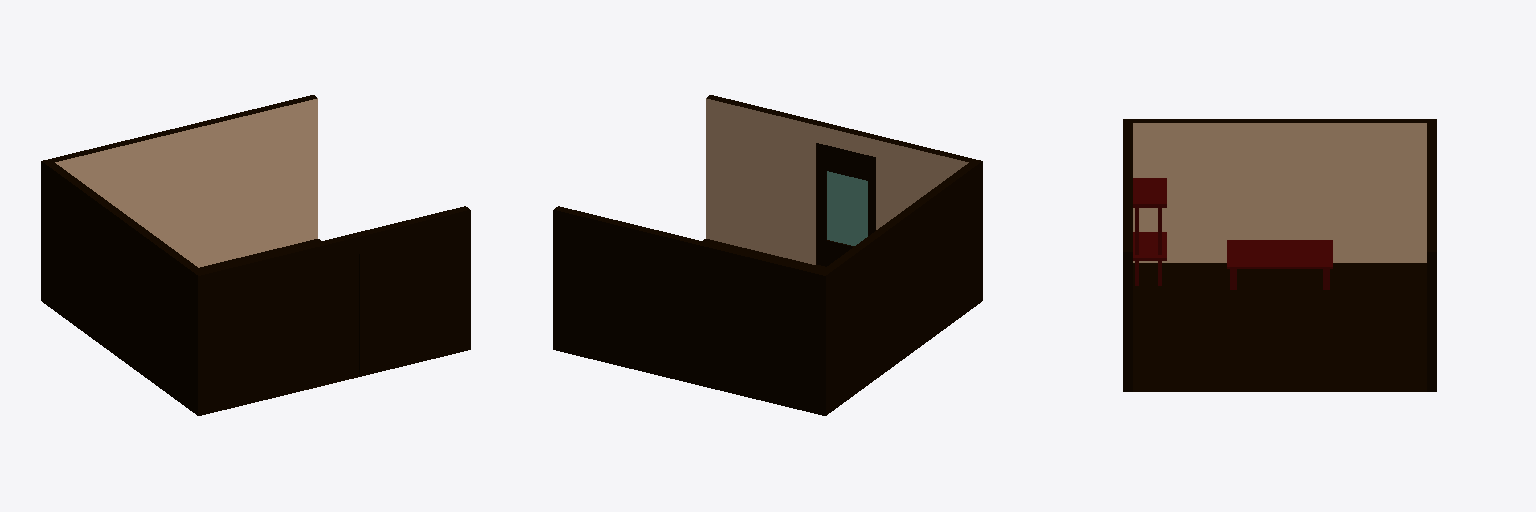
The model's file is Room.obj.
3 renders of one model, left to right at view 1: azimuth 30°, elevation 25°; view 2: azimuth 150°, elevation 25°; view 3: azimuth 270°, elevation 25°, orthographic.
Parts seen in each view (by area): view 1: Plane; view 2: Plane; view 3: Plane, Cube, Cube.001, Cube.002.
Boxes of the visible parts, x1=… form: Plane: x1=41, y1=95, x2=470, y2=415; Plane: x1=553, y1=95, x2=982, y2=415; Plane: x1=1123, y1=119, x2=1436, y2=391; Cube: x1=1227, y1=240, x2=1332, y2=289; Cube.001: x1=1133, y1=178, x2=1166, y2=285; Cube.002: x1=1133, y1=232, x2=1166, y2=260.
Size of the model in its own units: 9.96 by 4.94 by 9.96.